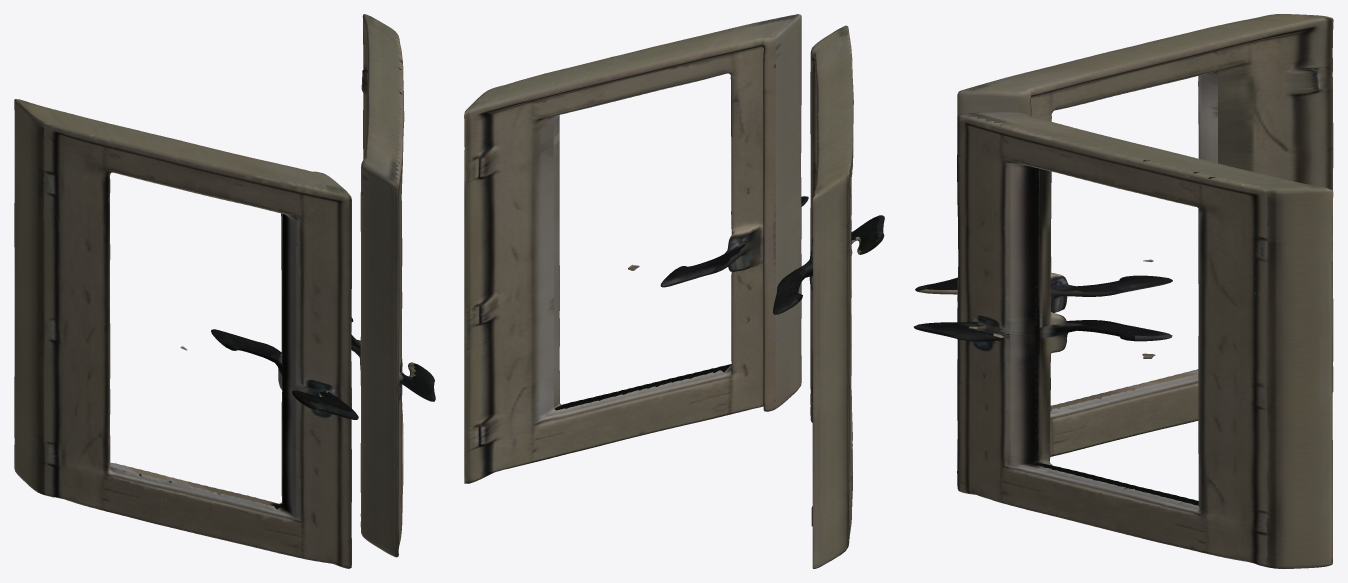
The model's file is door-double-leaf.glb.
The picture shows the model from 3 angles, left to right: view 1: azimuth 30°, elevation 25°; view 2: azimuth 150°, elevation 25°; view 3: azimuth 270°, elevation 25°; orthographic projection.
Visible parts, largest first — view 1: tmppw4nlsd4.ply; view 2: tmppw4nlsd4.ply; view 3: tmppw4nlsd4.ply.
Boxes of the visible parts, x1=… form: tmppw4nlsd4.ply: x1=14, y1=14, x2=435, y2=568; tmppw4nlsd4.ply: x1=464, y1=14, x2=884, y2=568; tmppw4nlsd4.ply: x1=913, y1=14, x2=1333, y2=568.
Bounding box in the file's own units: 1 × 1 × 1.
Materials: 1 (1 with a texture image).
